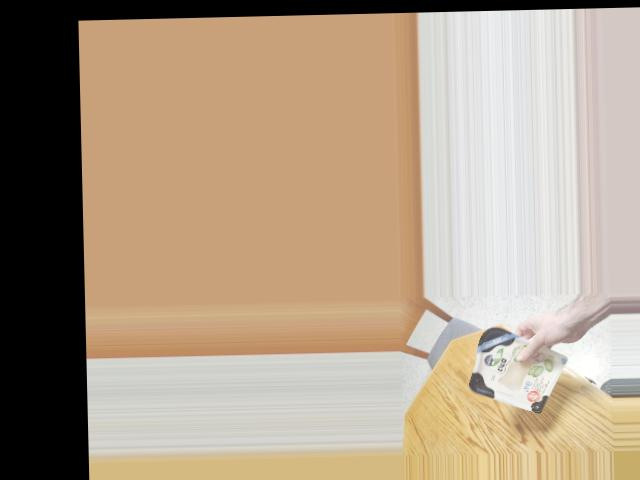cheese: (463, 329, 552, 411)
